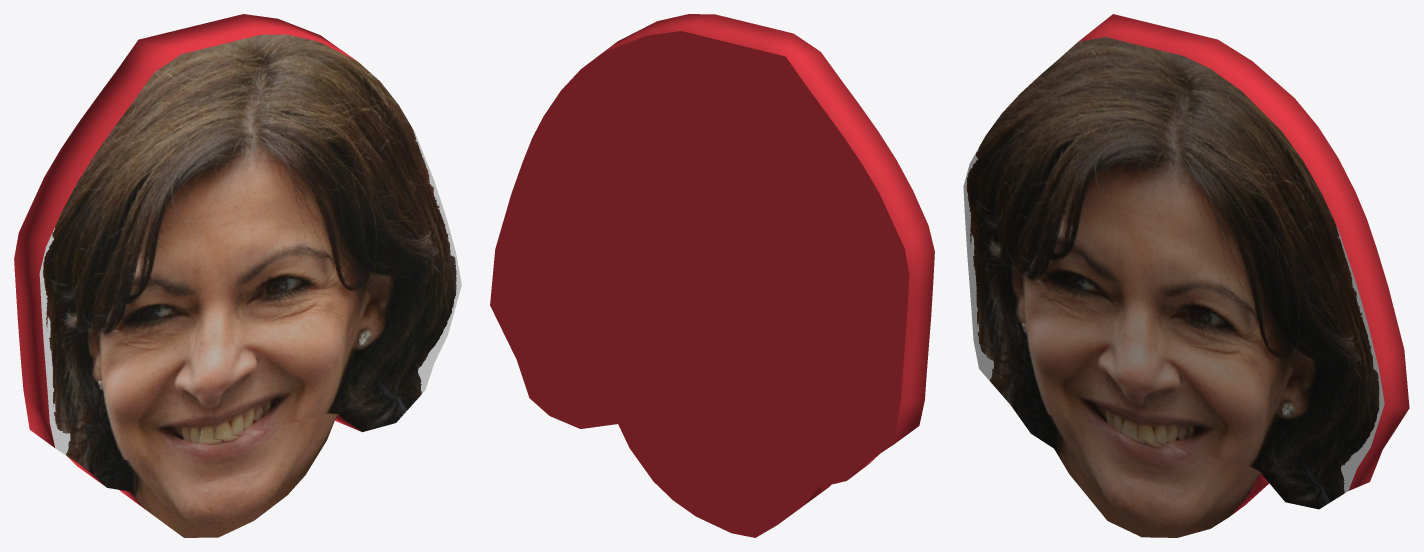
Rendered from Anne_Hidalgo.glb.
The picture shows the model from 3 angles, left to right: view 1: azimuth 30°, elevation 25°; view 2: azimuth 150°, elevation 25°; view 3: azimuth 330°, elevation 25°; orthographic projection.
Visible parts, largest first — view 1: Curve; view 2: Curve; view 3: Curve.
Part boxes in pixels (left/top/right/bottom): Curve: left=14, top=14, right=461, bottom=537; Curve: left=490, top=14, right=934, bottom=537; Curve: left=963, top=14, right=1409, bottom=537.
Size of the model in its own units: 1.43 by 1.6 by 0.1504.
2 materials, 1 textured.
